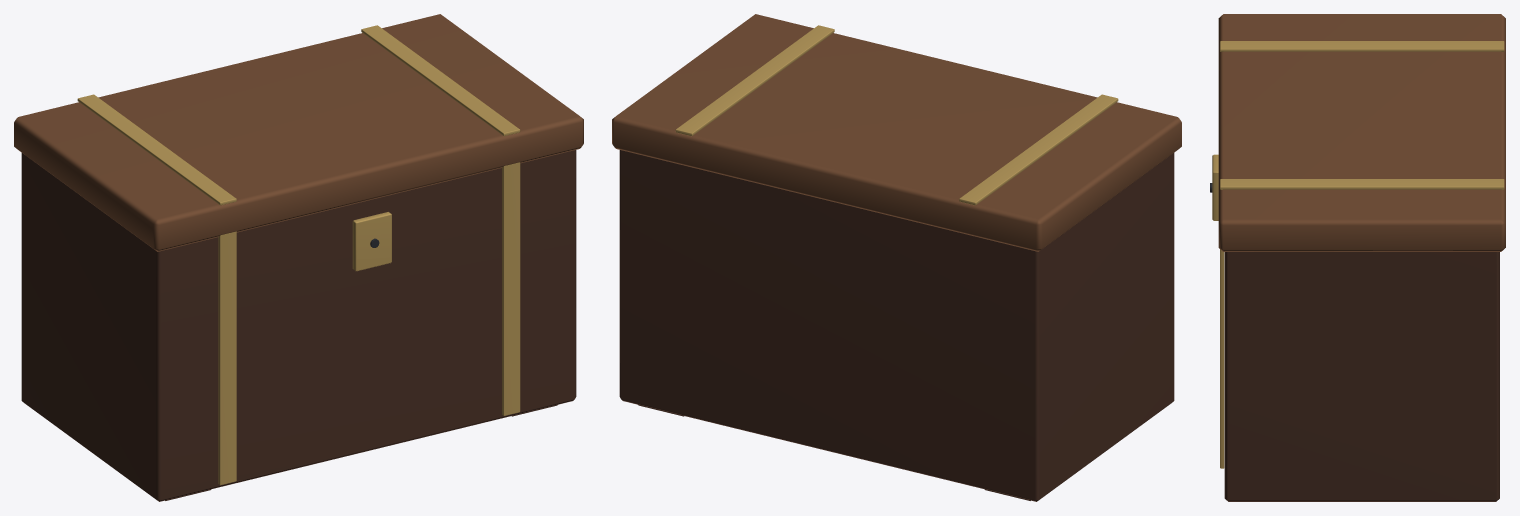
Rendered from rpg-mansion-chest-01.glb.
3 renders of one model, left to right at view 1: azimuth 30°, elevation 25°; view 2: azimuth 150°, elevation 25°; view 3: azimuth 270°, elevation 25°, orthographic.
Visible parts, largest first — view 1: rpg-mansion-chest-01; view 2: rpg-mansion-chest-01; view 3: rpg-mansion-chest-01.
Boxes of the visible parts, bbox=[...] form: rpg-mansion-chest-01: bbox=[14, 14, 583, 501]; rpg-mansion-chest-01: bbox=[612, 14, 1181, 501]; rpg-mansion-chest-01: bbox=[1210, 14, 1505, 501].
Size of the model in its own units: 0.82 by 0.535 by 0.49.
